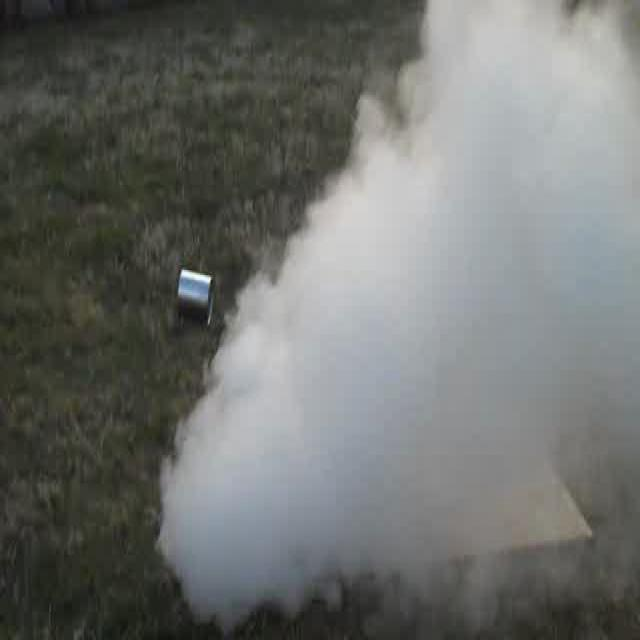Smoke: (201, 1, 634, 618)
